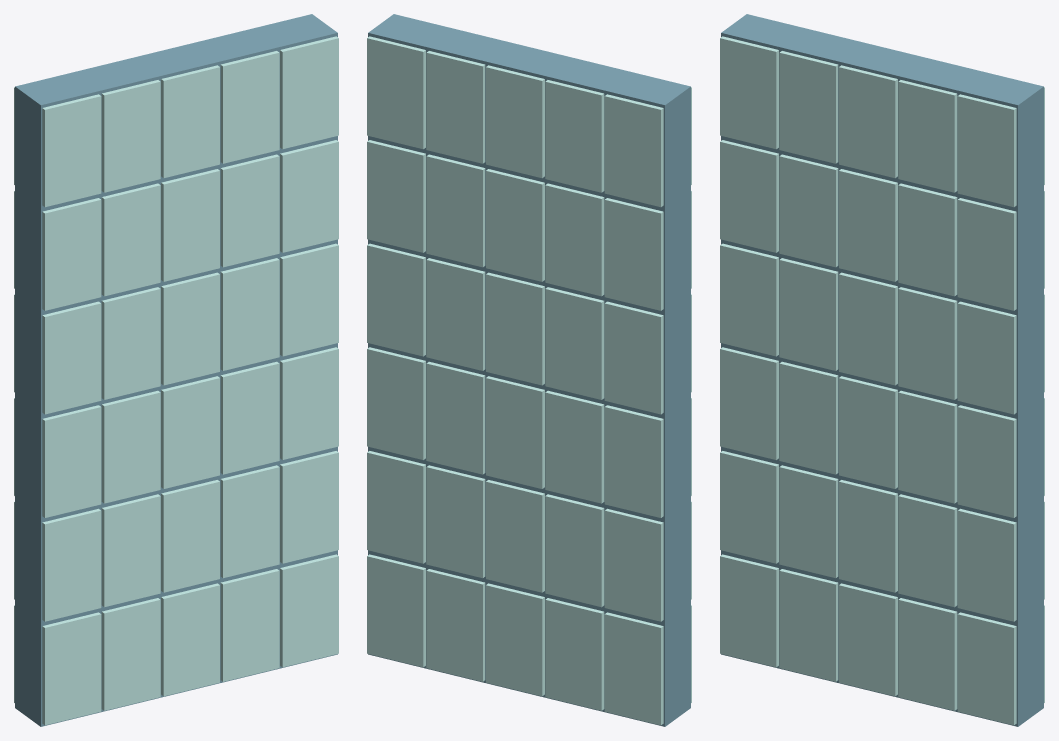
The model's file is BathroomTilesWall.glb.
3 views of the same model, side by side, from view 1: azimuth 30°, elevation 25°; view 2: azimuth 150°, elevation 25°; view 3: azimuth 330°, elevation 25° (orthographic).
Visible parts, largest first — view 1: wall_bathroomTiles; view 2: wall_bathroomTiles; view 3: wall_bathroomTiles.
Part boxes in pixels (<box>): wall_bathroomTiles: <box>14,14,338,726</box>; wall_bathroomTiles: <box>367,14,691,726</box>; wall_bathroomTiles: <box>720,14,1044,726</box>.
Size of what is drawn, in the model's own units: 2 by 4 by 0.36.
1 material, 1 textured.
